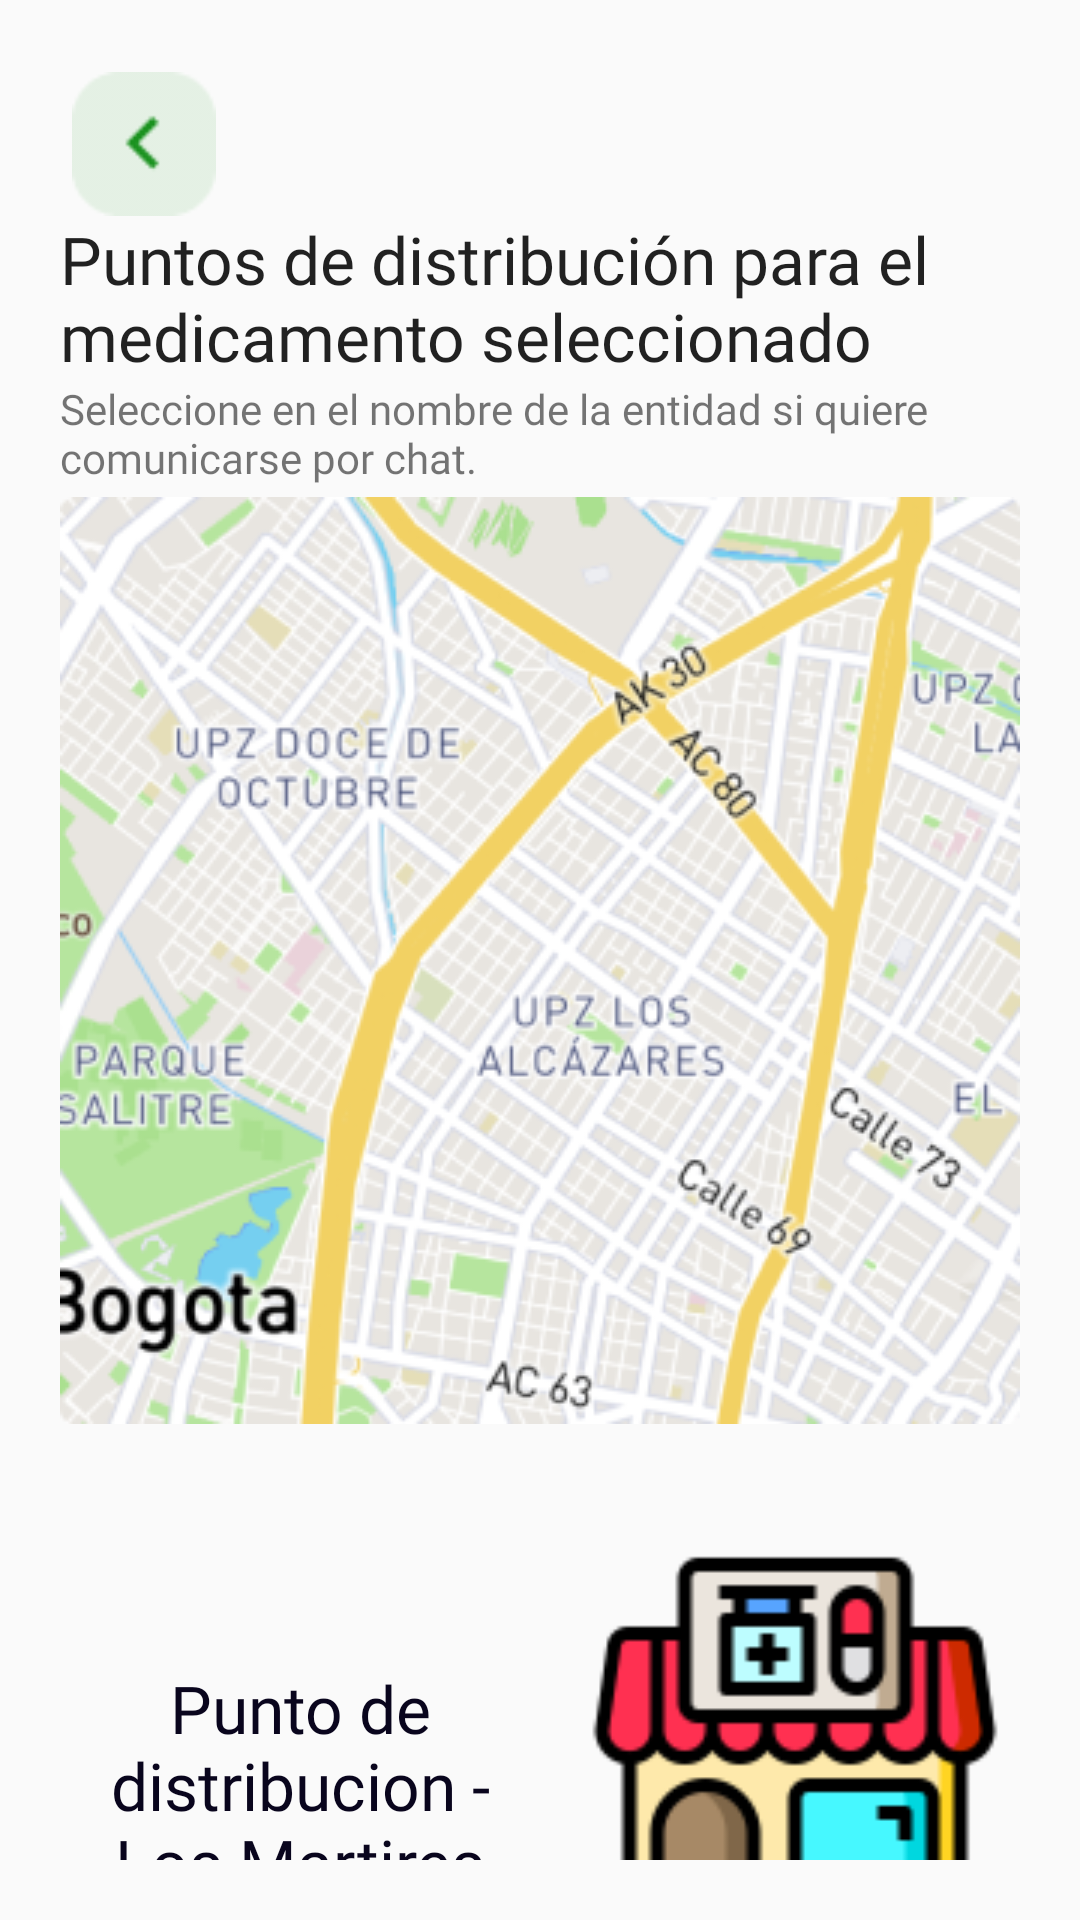

Icons on this 1080w x 1920h Android screen, each with the point to tap as [x,y]:
Retornar: [142,143]
